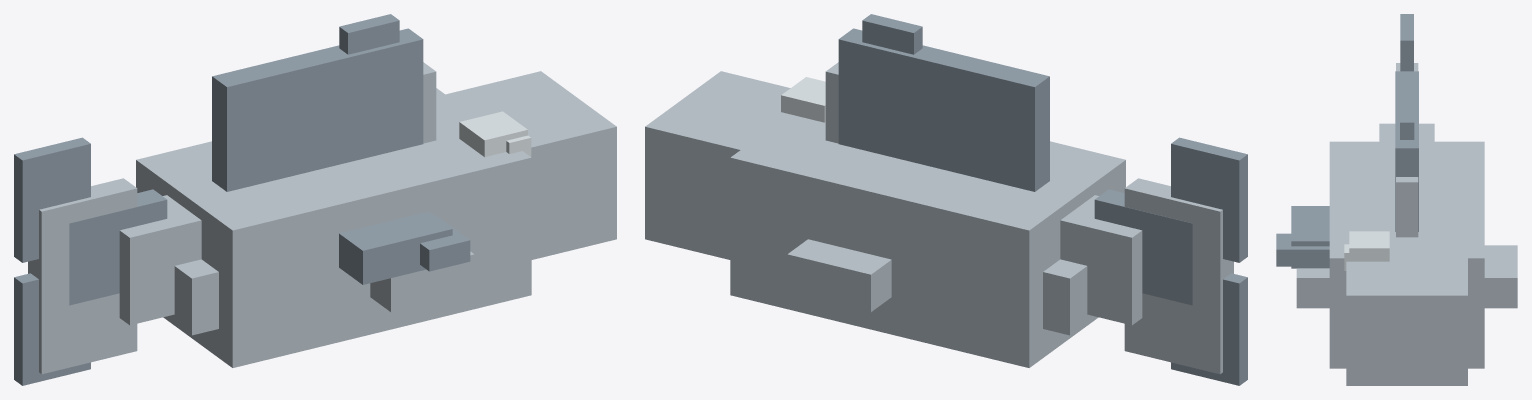
File: fish_silver_sprat.glb
The picture shows the model from 3 angles, left to right: view 1: azimuth 30°, elevation 25°; view 2: azimuth 150°, elevation 25°; view 3: azimuth 270°, elevation 25°; orthographic projection. The views are drawn at different scales.
Parts seen in each view (by area): view 1: FishArt_body, FishArt_dorsal, FishArt_tail, FishArt_pectoral, FishArt_eye; view 2: FishArt_body, FishArt_dorsal, FishArt_tail, FishArt_eye; view 3: FishArt_body, FishArt_pectoral, FishArt_dorsal, FishArt_eye, FishArt_tail.
Boxes of the visible parts, x1,y1,x2,y2 form: FishArt_body: (28, 62, 616, 374); FishArt_dorsal: (212, 14, 423, 191); FishArt_tail: (14, 137, 167, 385); FishArt_pectoral: (339, 211, 470, 284); FishArt_eye: (459, 111, 531, 156); FishArt_body: (645, 62, 1233, 374); FishArt_dorsal: (838, 14, 1049, 191); FishArt_tail: (1094, 137, 1247, 385); FishArt_eye: (781, 77, 825, 122); FishArt_body: (1296, 63, 1517, 385); FishArt_pectoral: (1276, 206, 1329, 268); FishArt_dorsal: (1395, 71, 1418, 231); FishArt_eye: (1344, 231, 1389, 270); FishArt_tail: (1400, 14, 1413, 71).
Size of the model in its own units: 0.3091 by 0.1442 by 0.1439.
